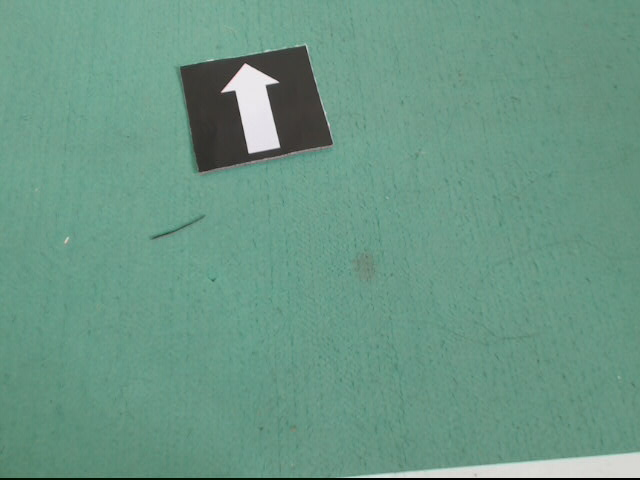straight: (180, 45, 334, 177)
